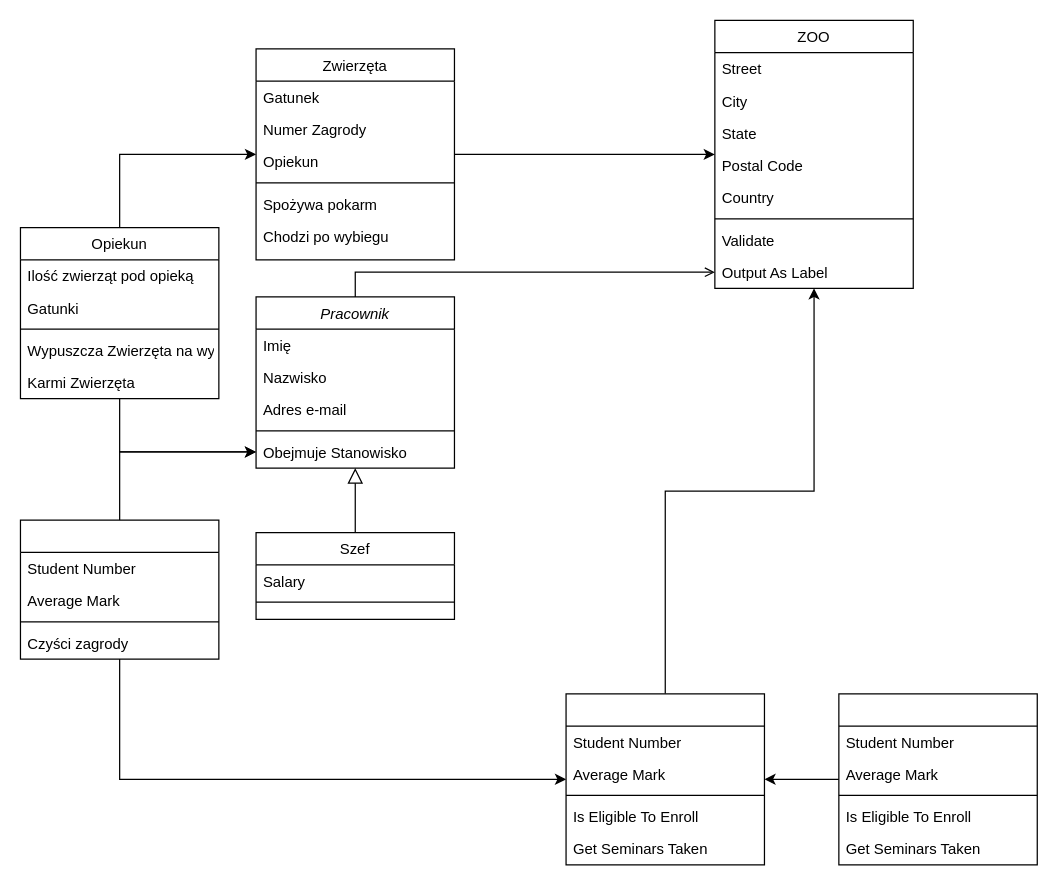
Image size: 1058x885. Some labels were removed from this diagram. The box of each missing label's shape, as (x1, y1, x2, y2) in pixels:
Czyściciel zagród: (19, 519, 219, 659)
Domek: (838, 693, 1037, 865)
Zagroda: (565, 693, 764, 865)
